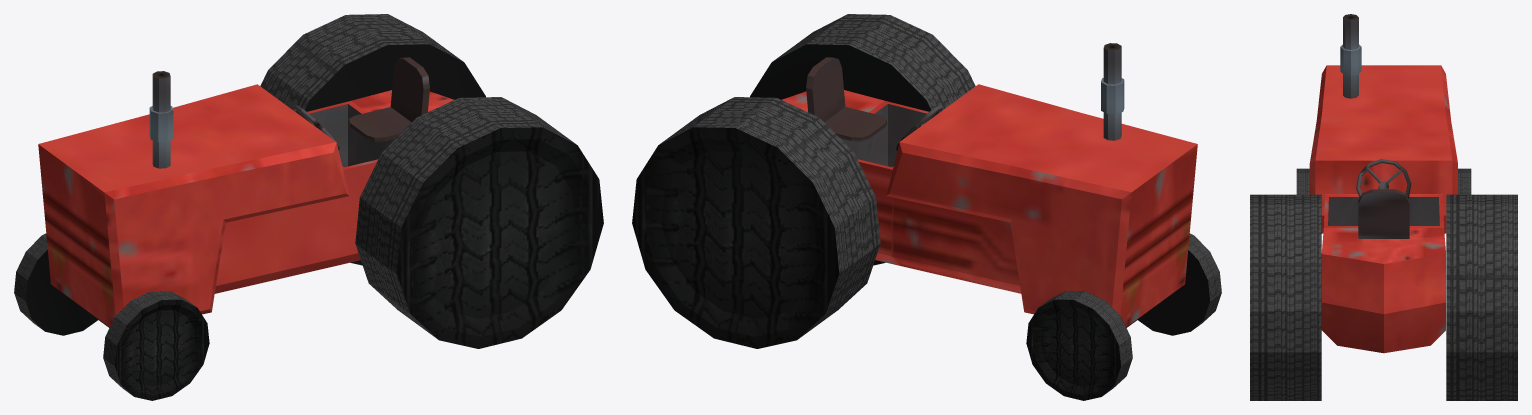
Rendered from Tractor.fbx.
3 views of the same model, side by side, from view 1: azimuth 30°, elevation 25°; view 2: azimuth 150°, elevation 25°; view 3: azimuth 270°, elevation 25° (orthographic). The views are drawn at different scales.
Visible parts, largest first — view 1: Cylinder.001; view 2: Cylinder.001; view 3: Cylinder.001.
Part boxes in pixels (x1=…): Cylinder.001: x1=14, y1=14, x2=603, y2=400; Cylinder.001: x1=632, y1=14, x2=1221, y2=400; Cylinder.001: x1=1250, y1=14, x2=1517, y2=400.
Size of the model in its own units: 289 by 176 by 167.
